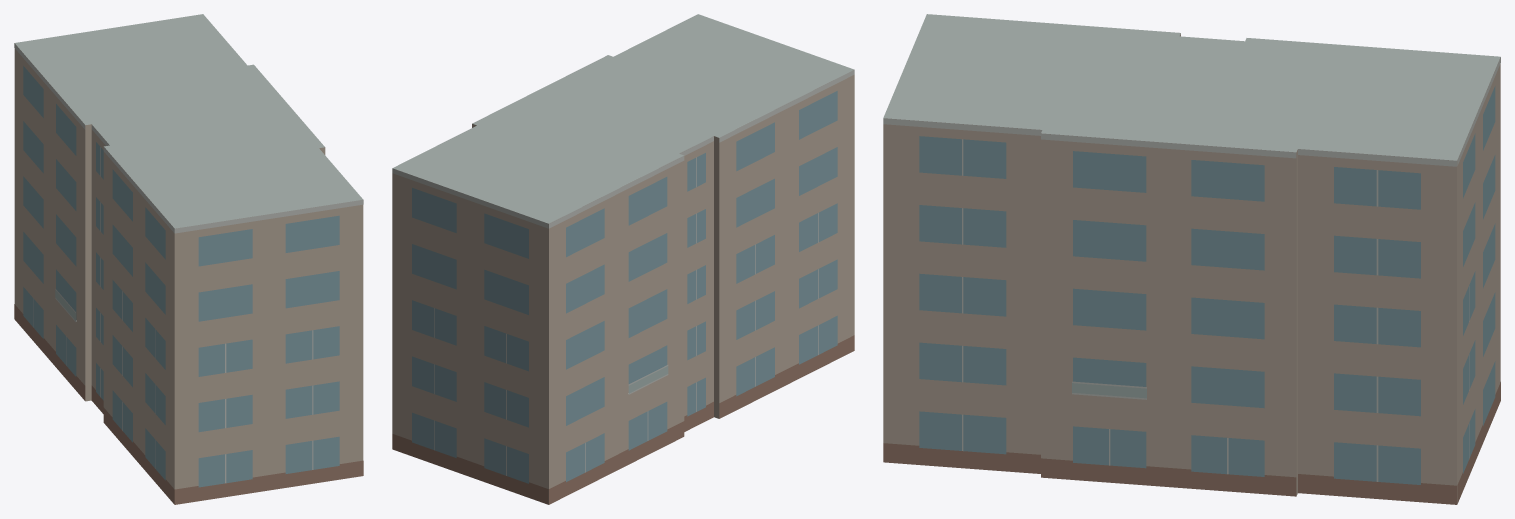
File: survey-upis-32953788.glb
3 renders of one model, left to right at view 1: azimuth 30°, elevation 25°; view 2: azimuth 150°, elevation 25°; view 3: azimuth 270°, elevation 25°, orthographic. The views are drawn at different scales.
Parts seen in each view (by area): view 1: survey-upis-32953788.tmp; view 2: survey-upis-32953788.tmp; view 3: survey-upis-32953788.tmp.
Part boxes in pixels (x1,y1,x2,y2): survey-upis-32953788.tmp: (14,14,363,504); survey-upis-32953788.tmp: (392,14,854,504); survey-upis-32953788.tmp: (883,14,1500,504).
Bounding box in the file's own units: 12.63 × 13.8 × 22.45.
